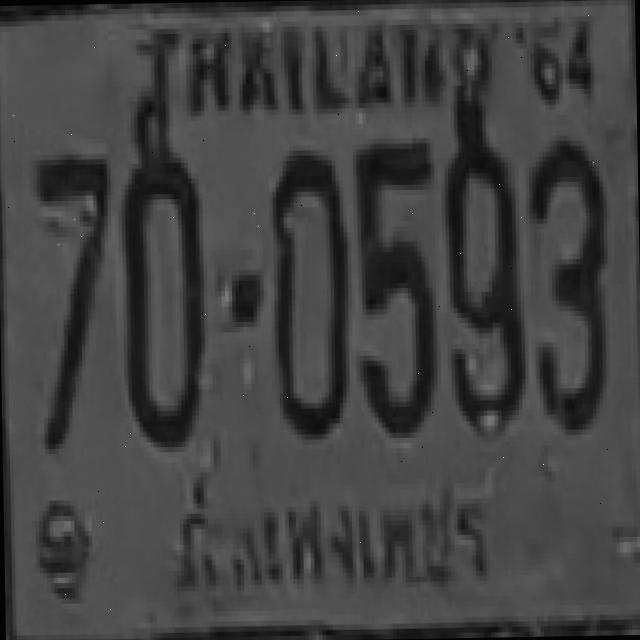0: (120, 150, 203, 444), (268, 146, 346, 436)
3: (524, 134, 607, 430)
5: (352, 138, 435, 432)
7: (30, 148, 113, 449)
9: (440, 138, 523, 438)
KamphaengPhet: (168, 460, 496, 598)
